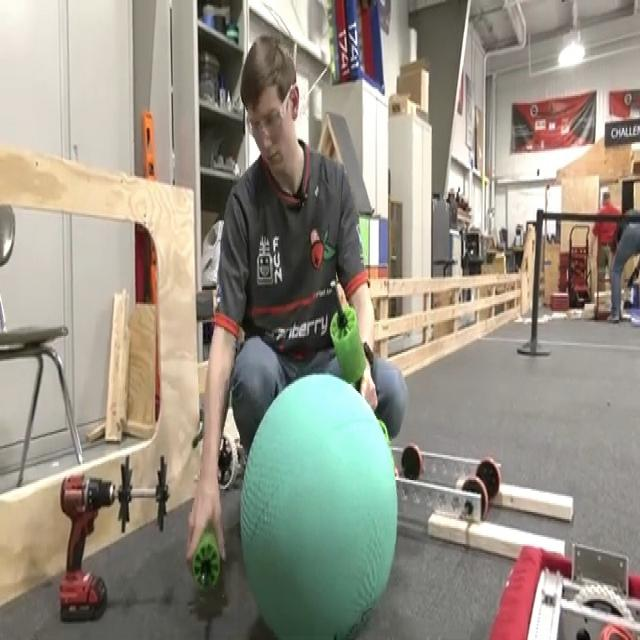Algae: (238, 370, 398, 636)
